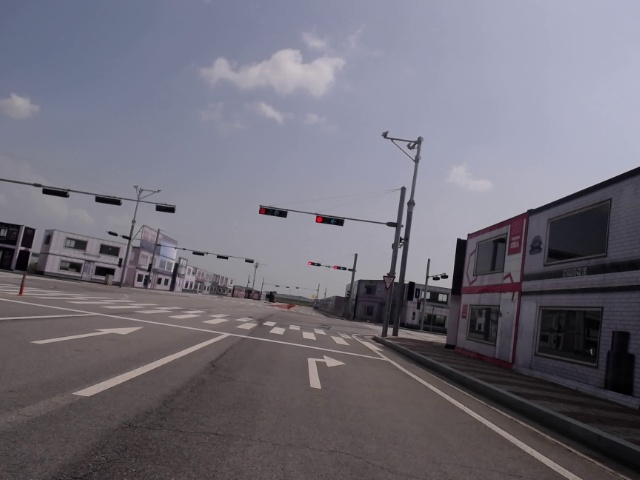left_green_4: (260, 207, 287, 218), (317, 216, 343, 226), (334, 265, 346, 271), (308, 261, 320, 266)
